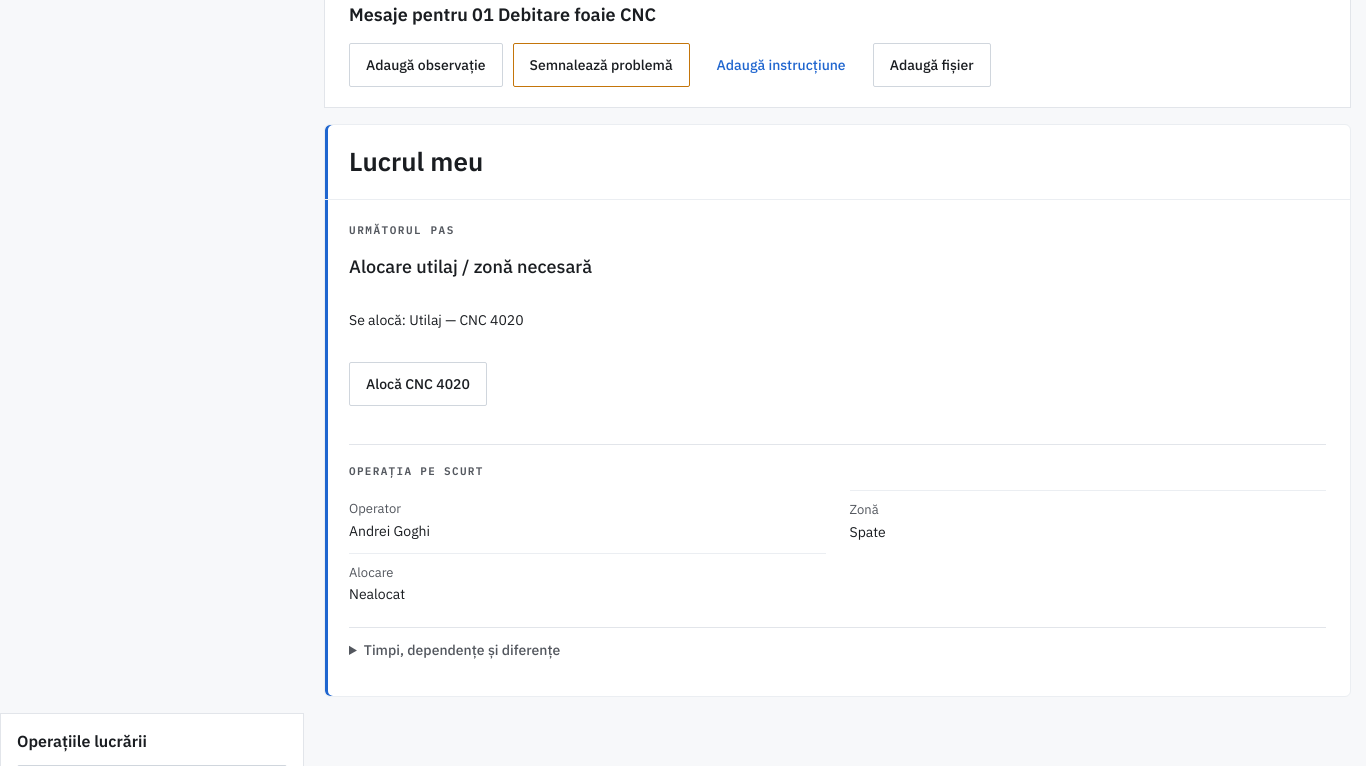
Test: OperationWorkspace › reloads the plan after a successful assignment and keeps a failure from looking assigned
(page scrolled)
What coordinates should you click on to do the following:
click the button "Alocă CNC 4020"
I would click on:
 (418, 384)
Its box is 349,360 -> 487,408.
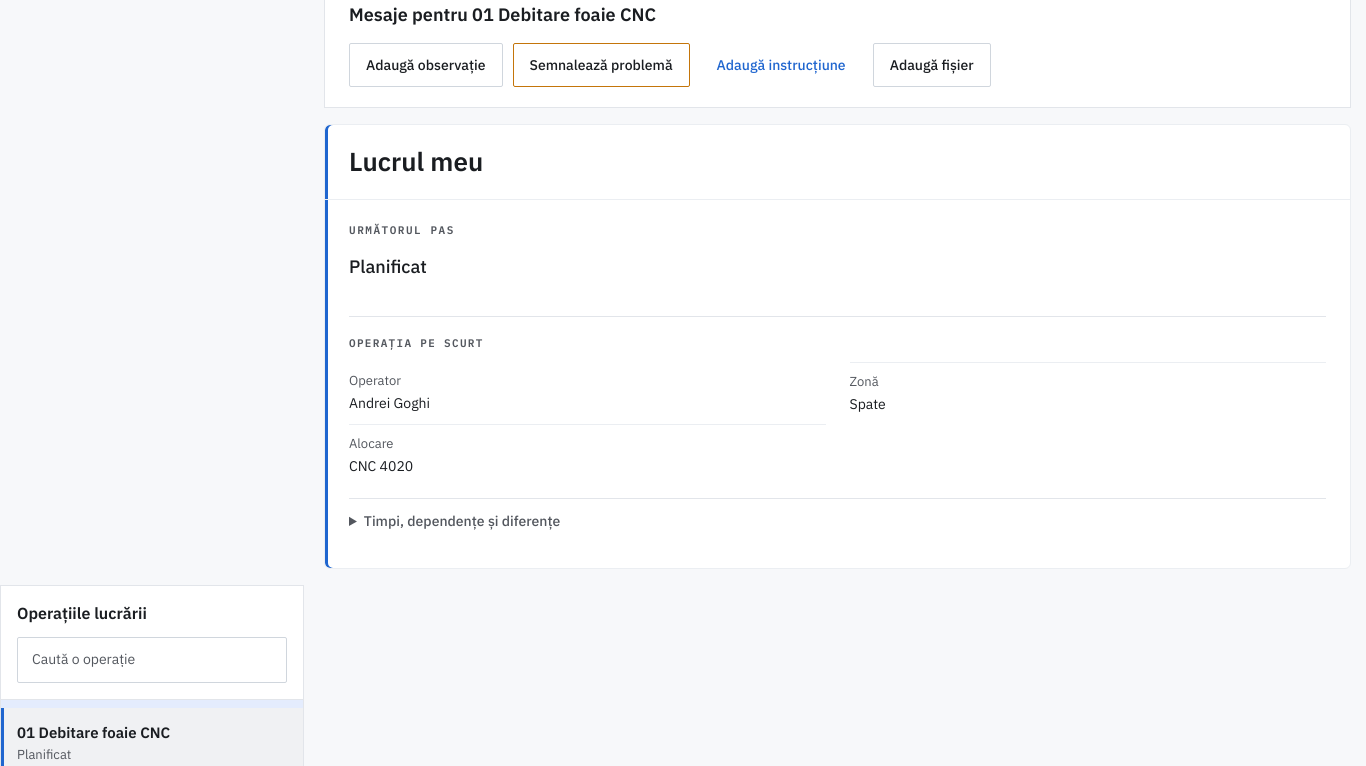
Result: the text "alocă" is gone
